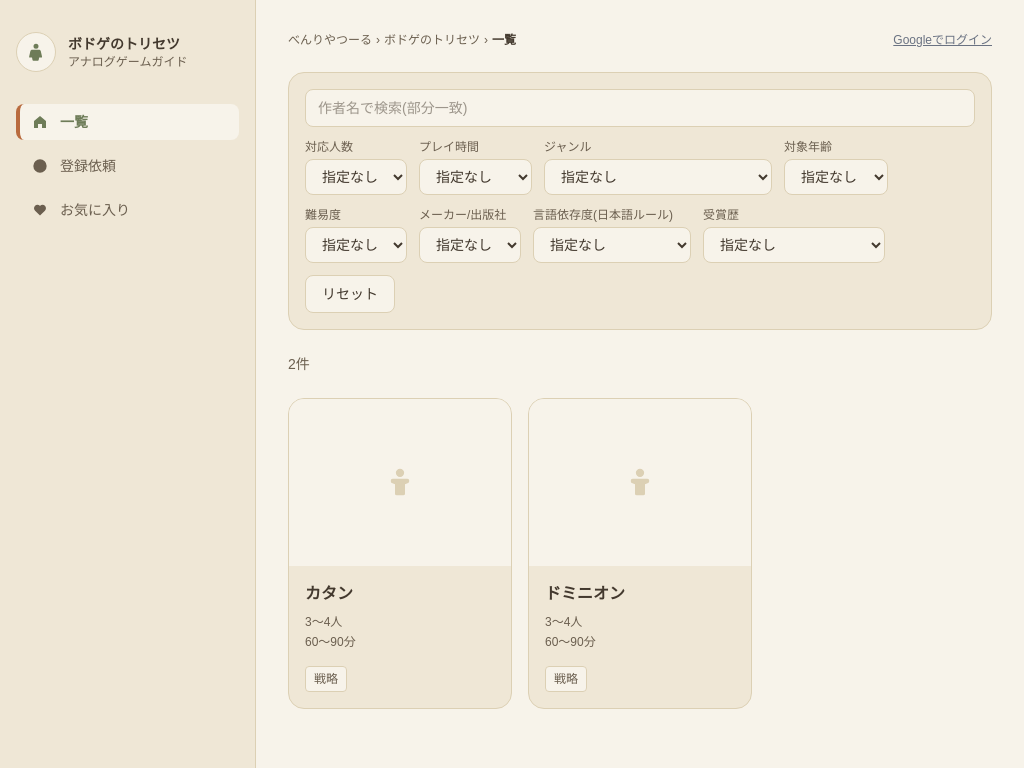
Test: 【一覧画面】絞り込み条件の変更 - 再取得せず、取得済みデータへ適用する › 絞り込み条件を変更しても、fetchPublishedGamesは1回しか呼ばれず、一覧・件数が絞り込み後の内容に更新されること
Expected: the link "カタン" is shown, 305,584 -> 353,602
Type "宮本" into the field named "作者で検索" at [640, 108], box 305,89 -> 975,127
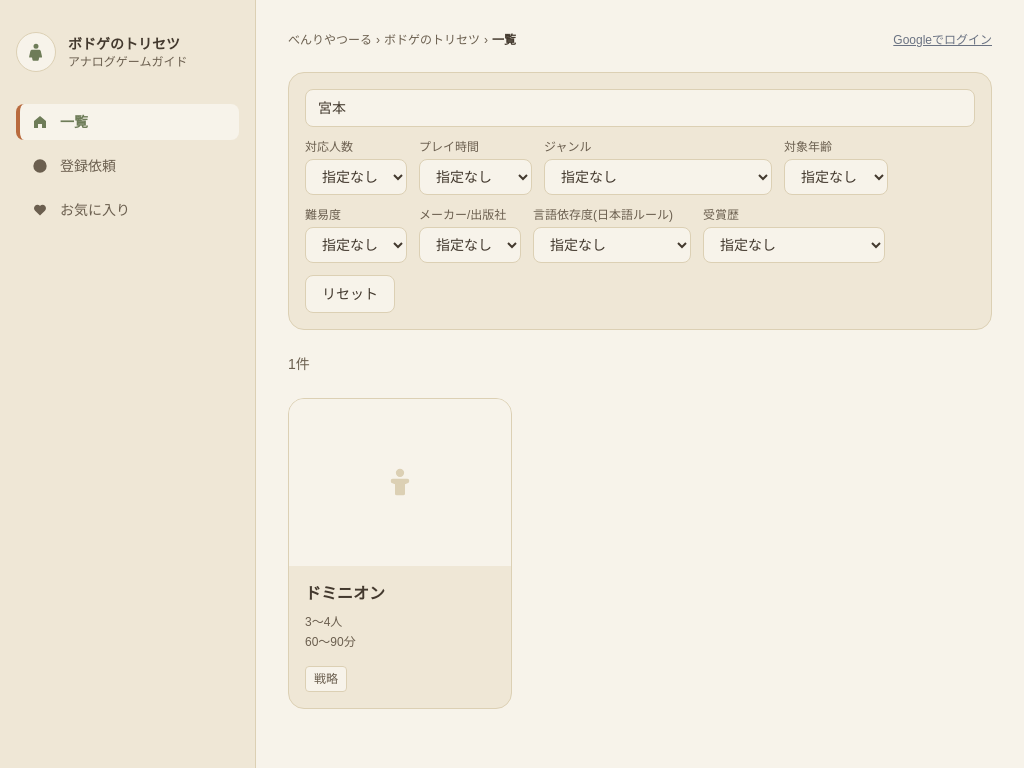
Expected: the link "ドミニオン" is shown, 305,584 -> 385,602
Now the link "カタン" is gone
Now the text "1件" is shown, box 288,356 -> 310,372
